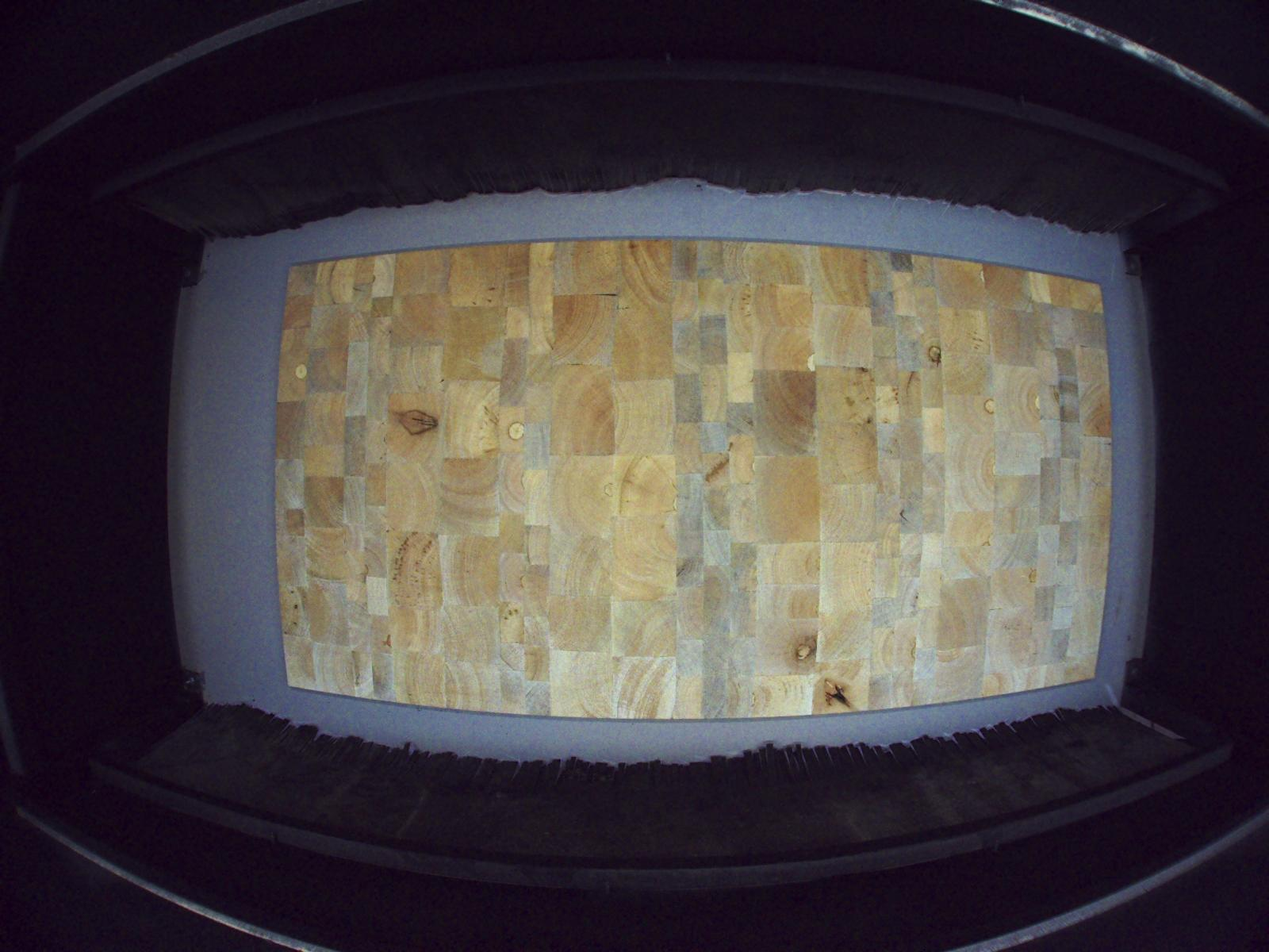nudillo: (815, 676, 859, 713), (783, 630, 818, 667)
